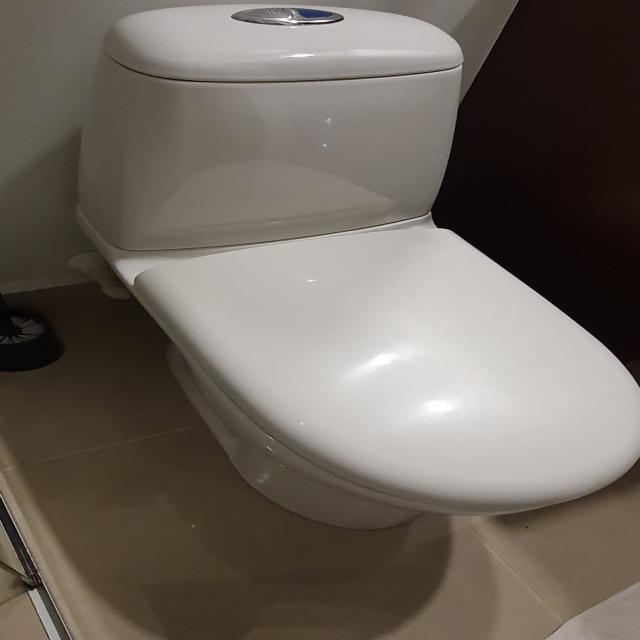toilet: (72, 3, 638, 531)
